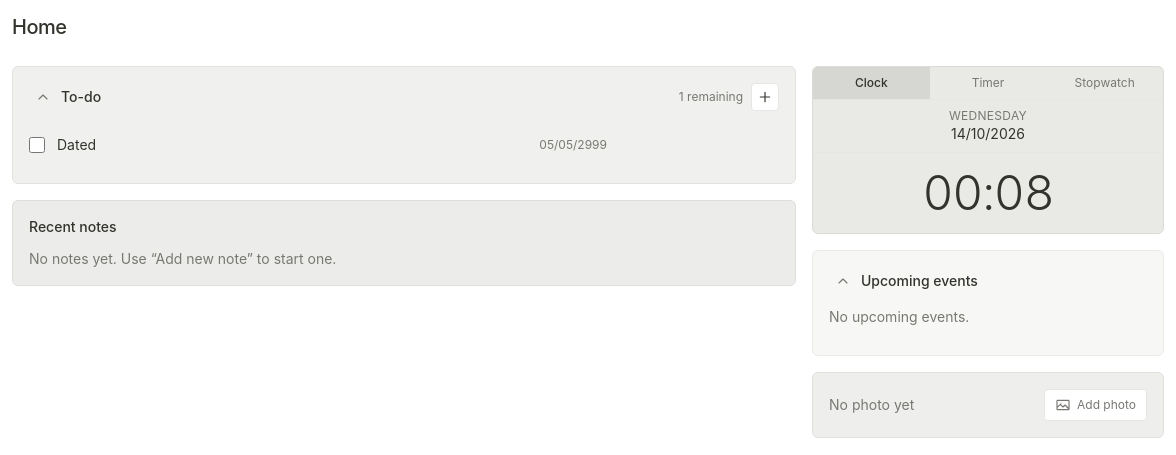
Test case: To-do widget on Home › changes and clears a due date from the row
The width and height of the screenshot is (1176, 455).
Step 1. Clear the date field named "Due date for \"Dated\"" → (77, 144), box [29,136,607,153]
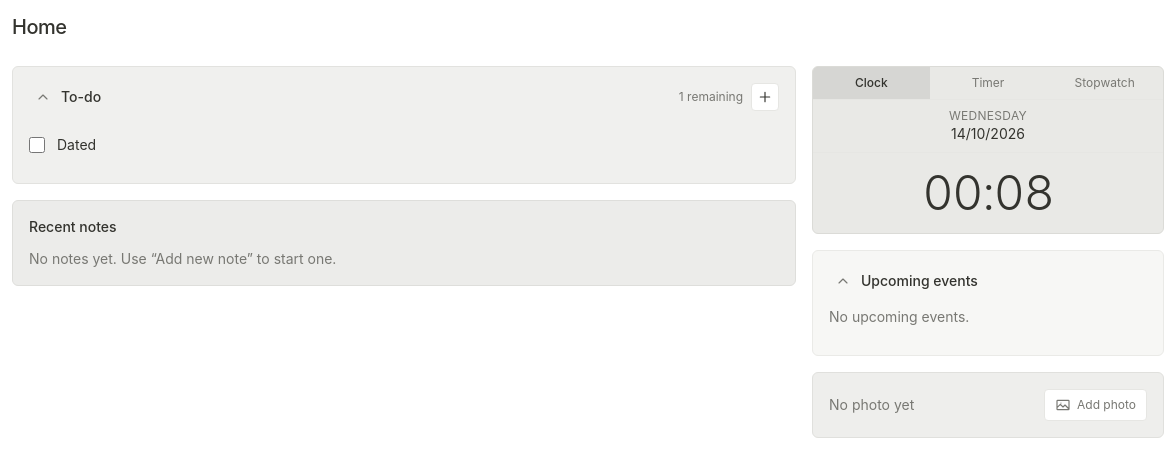
Expected: the text with test id "todo-due" is gone
